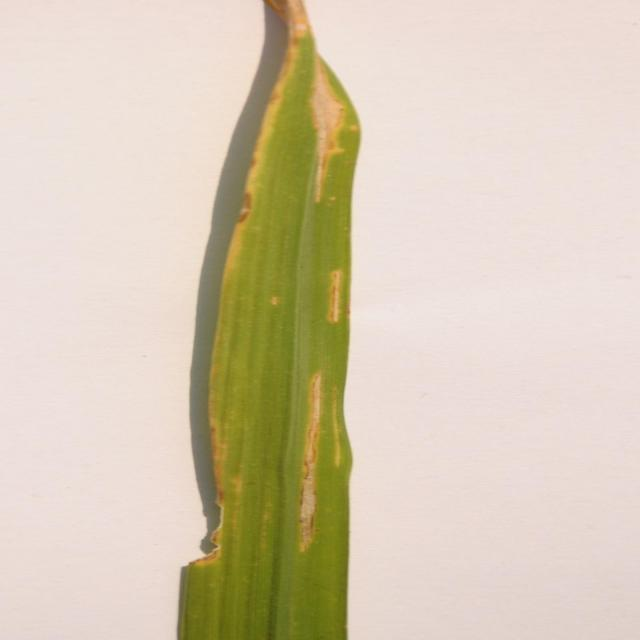leaf blight: (238, 1, 359, 217), (289, 263, 359, 562), (177, 414, 249, 582)
